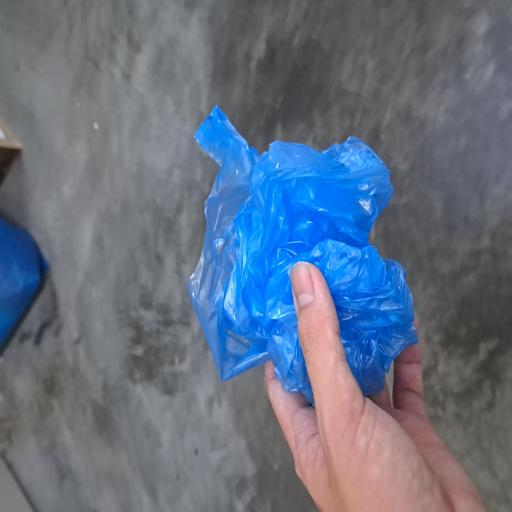plastic bag: (101, 112, 320, 404)
